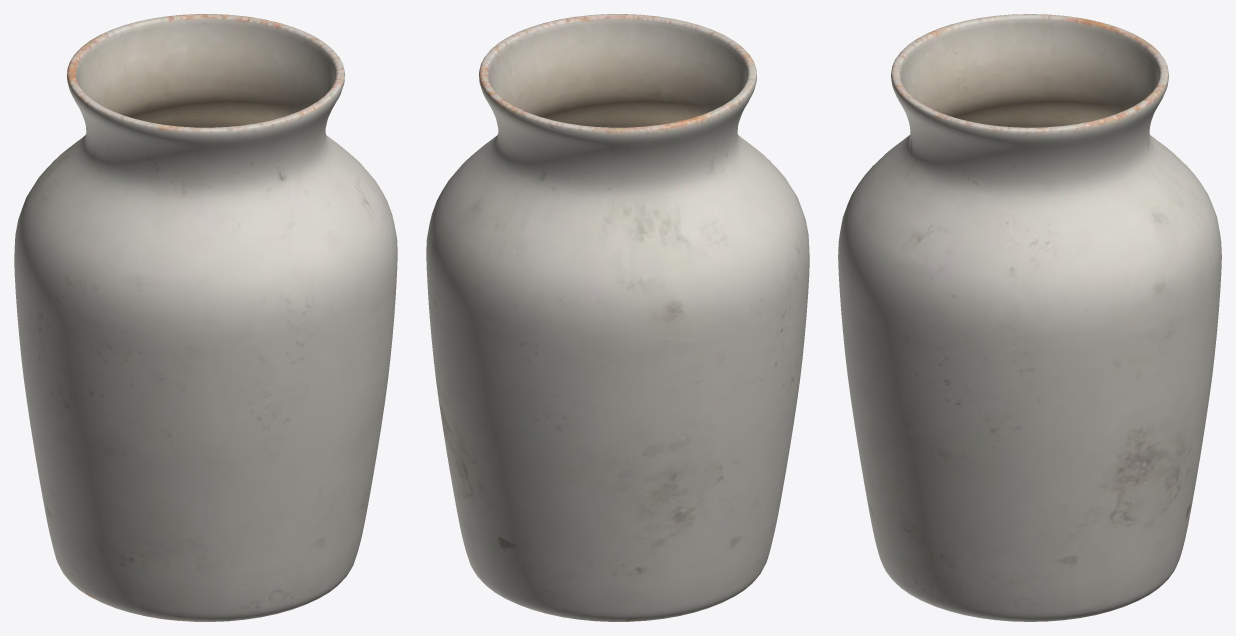
The model's file is ceramic_vase_02.glb.
3 views of the same model, side by side, from view 1: azimuth 30°, elevation 25°; view 2: azimuth 150°, elevation 25°; view 3: azimuth 270°, elevation 25° (orthographic).
Parts seen in each view (by area): view 1: ceramic_vase_02; view 2: ceramic_vase_02; view 3: ceramic_vase_02.
Boxes of the visible parts, x1,y1,x2,y2 form: ceramic_vase_02: (14,14,397,621); ceramic_vase_02: (426,14,809,621); ceramic_vase_02: (838,14,1221,621).
Bounding box in the file's own units: 0.2184 × 0.3092 × 0.2184.
1 material, 1 textured.
